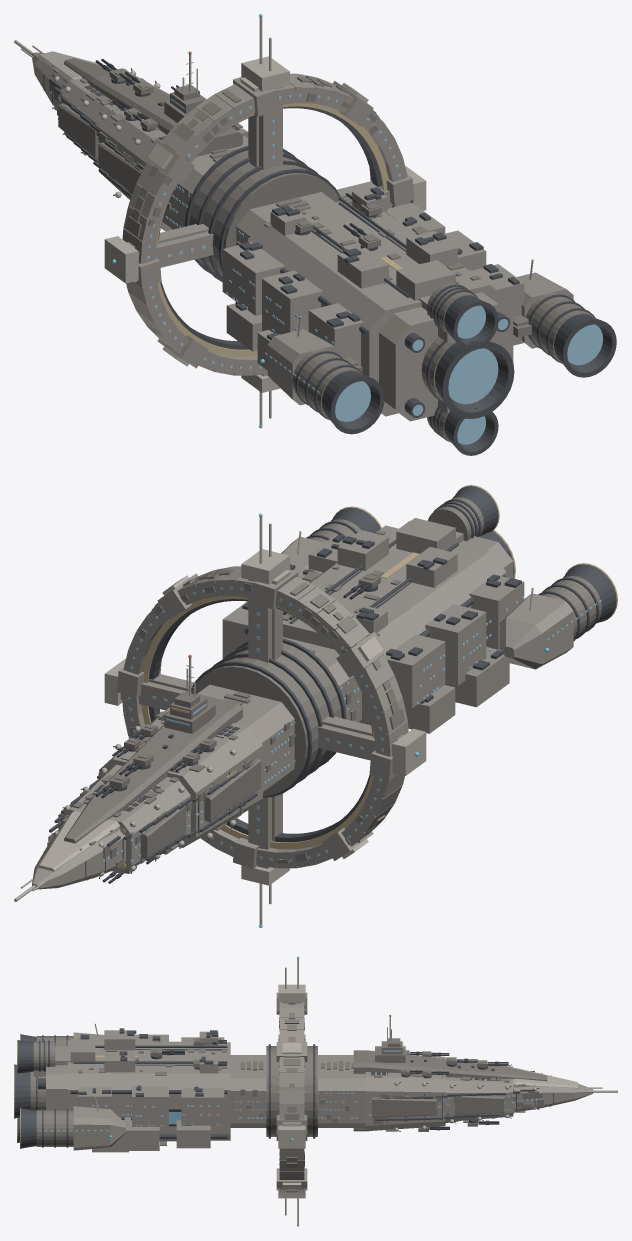
Rendered from qin-reclamation.glb.
The picture shows the model from 3 angles, top to bottom: view 1: azimuth 30°, elevation 25°; view 2: azimuth 150°, elevation 25°; view 3: azimuth 270°, elevation 25°; orthographic projection. The views are drawn at different scales.
Visible parts, largest first — view 1: main_hull_000, aft_module_000, ring_segment_000, engine_bell_000, engine_glow_000, hub_collar_000, engine_housing_000, cross_pylon_000, pylon_cap_000, pod_nose_000, dorsal_spine_000, hub_band_000 (+16 smaller); view 2: main_hull_000, aft_module_000, ring_segment_000, cross_pylon_000, hub_collar_000, dorsal_spine_000, pod_nose_000, pylon_cap_000, engine_housing_000, hub_band_000, cheek_armor_000, engine_bell_000 (+16 smaller); view 3: main_hull_000, aft_module_000, ring_segment_000, dorsal_spine_000, engine_housing_000, cheek_armor_000, engine_bell_000, pod_nose_000, hull_plate_000, hub_collar_000, pylon_cap_000, conduit_000 (+11 smaller).
Part boxes in pixels (bbox=[...]): main_hull_000: bbox=[32, 52, 513, 421]; aft_module_000: bbox=[222, 187, 524, 413]; ring_segment_000: bbox=[122, 73, 414, 375]; engine_bell_000: bbox=[322, 295, 616, 455]; engine_glow_000: bbox=[335, 305, 602, 444]; hub_collar_000: bbox=[189, 150, 339, 277]; engine_housing_000: bbox=[292, 282, 594, 442]; cross_pylon_000: bbox=[127, 87, 410, 376]; pylon_cap_000: bbox=[104, 56, 426, 392]; pod_nose_000: bbox=[267, 272, 573, 405]; dorsal_spine_000: bbox=[64, 58, 242, 156]; hub_band_000: bbox=[184, 145, 340, 282]; main_hull_000: bbox=[32, 520, 513, 889]; aft_module_000: bbox=[222, 518, 524, 733]; ring_segment_000: bbox=[117, 566, 408, 868]; cross_pylon_000: bbox=[120, 579, 403, 868]; hub_collar_000: bbox=[191, 643, 341, 796]; dorsal_spine_000: bbox=[64, 694, 242, 843]; pod_nose_000: bbox=[281, 537, 573, 669]; pylon_cap_000: bbox=[104, 549, 426, 885]; engine_housing_000: bbox=[309, 497, 601, 638]; hub_band_000: bbox=[191, 638, 346, 797]; cheek_armor_000: bbox=[58, 758, 261, 858]; engine_bell_000: bbox=[331, 486, 616, 623]; main_hull_000: bbox=[46, 1040, 593, 1141]; aft_module_000: bbox=[70, 1030, 224, 1152]; ring_segment_000: bbox=[276, 992, 307, 1192]; dorsal_spine_000: bbox=[353, 1050, 547, 1081]; engine_housing_000: bbox=[30, 1036, 73, 1146]; cheek_armor_000: bbox=[372, 1095, 504, 1117]; engine_bell_000: bbox=[14, 1034, 36, 1148]; pod_nose_000: bbox=[73, 1032, 125, 1150]; hull_plate_000: bbox=[78, 1038, 551, 1145]; hub_collar_000: bbox=[266, 1046, 317, 1136]; pylon_cap_000: bbox=[278, 984, 305, 1198]; conduit_000: bbox=[70, 1045, 227, 1138].
Bounding box in the file's own units: 3.75 × 4.84 × 9.82.
